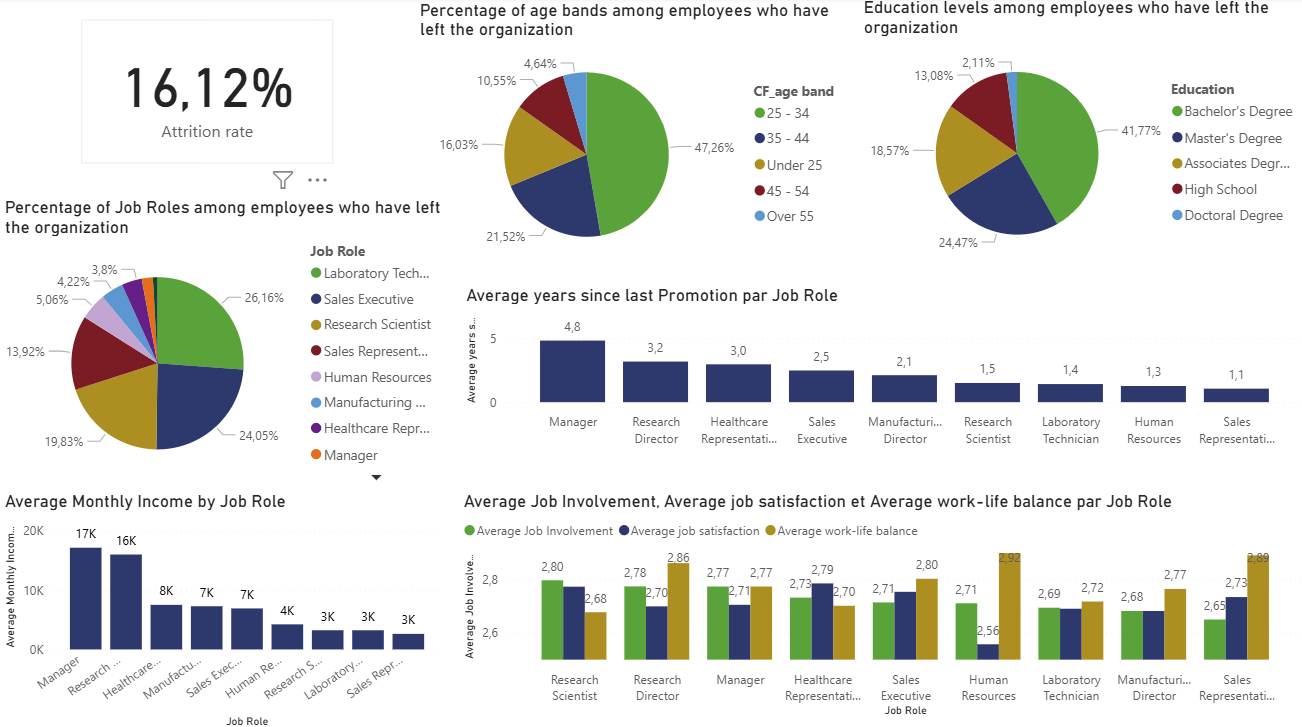

Layout of this report page (visuals, bound fields, positions):
{"tool":"powerbi","page":{"name":"Page 1","canvas":[1280,720],"ordinal":0},"visuals":[{"type":"card","fields":{"Values":["Table de mesures.Taux d'attrition"]},"box":[79.5,22,247,140.6],"z":0},{"type":"clusteredColumnChart","title":"Average Monthly Income by Job Role","fields":{"Category":["HR data.Job Role"],"Y":["Table de mesures.Average Monthly Income per Job Role"]},"box":[0,483,436.6,237.2],"z":1000},{"type":"clusteredColumnChart","fields":{"Category":["HR data.Job Role"],"Y":["Table de mesures.Average Job Involvement","Table de mesures.Average job satisfaction","Table de mesures.Average Work Life Balance"]},"box":[448.8,483,831.5,226.2],"z":2000},{"type":"clusteredColumnChart","fields":{"Category":["HR data.Job Role"],"Y":["Table de mesures.Average years since last Promotion"]},"box":[450.9,281.3,829.1,166.3],"z":3000},{"type":"pieChart","title":"Percentage of age bands among employees who have left the organization","fields":{"Category":["HR data.CF_age band"],"Y":["Table de mesures.Pourcentage des tranches d'âge parmi les employés ayant quitté l'entreprise"]},"box":[406,2.4,434.1,265.4],"z":4000},{"type":"pieChart","title":"Education levels among employees who have left the organization","fields":{"Category":["HR data.Education"],"Y":["Table de mesures.Pourcentage des niveaux d'éducation parmi les employés ayant quitté l'organisation"]},"box":[840.1,0,440.2,267.8],"z":5000},{"type":"pieChart","title":"Percentage of Job Roles among employees who have left the organization ","fields":{"Category":["HR data.Job Role"],"Y":["Table de mesures.Percentage of Job Roles among employees who have left the organization"]},"box":[0,195.7,436.6,287.4],"z":6000}]}

Visuals, with their boxes in screenshot pixels (x1, y1, x2, y2), scaled from the page's 1280x720 canvas onto the 1302x727 screenshot:
card - Table de mesures.Taux d'attrition: 81 22 332 164
"Average Monthly Income by Job Role" clusteredColumnChart: 0 488 444 726
clusteredColumnChart - HR data.Job Role x Table de mesures.Average Job Involvement: 457 488 1301 716
clusteredColumnChart - HR data.Job Role x Table de mesures.Average years since last Promotion: 459 284 1301 452
"Percentage of age bands among employees who have left the organization" pieChart: 413 2 855 270
"Education levels among employees who have left the organization" pieChart: 855 0 1301 270
"Percentage of Job Roles among employees who have left the organization " pieChart: 0 198 444 488
